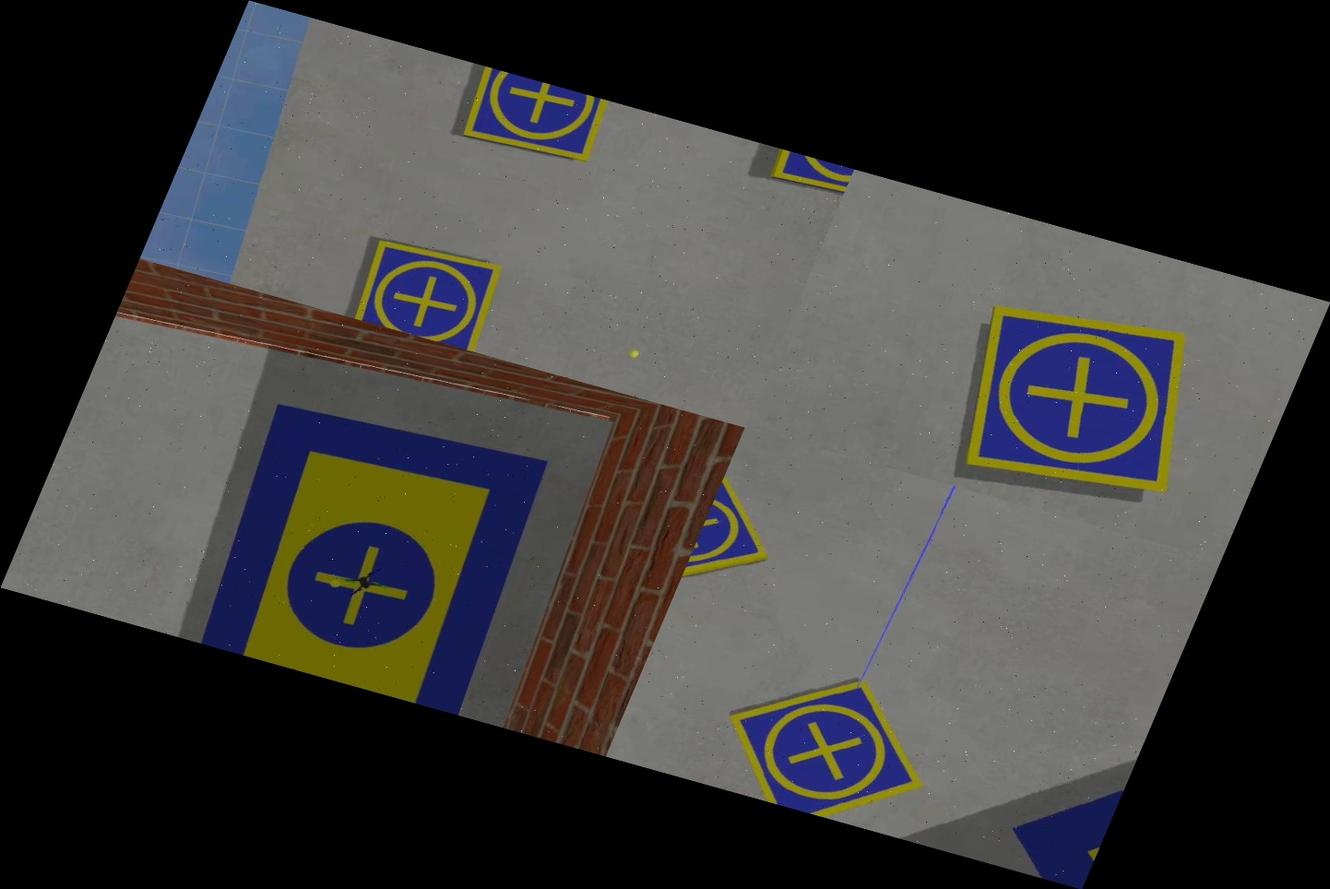large_base: (179, 386, 571, 717)
small_base: (931, 282, 1227, 519), (696, 646, 963, 840), (347, 232, 513, 353), (673, 475, 800, 617), (453, 65, 614, 171), (764, 148, 854, 196)
